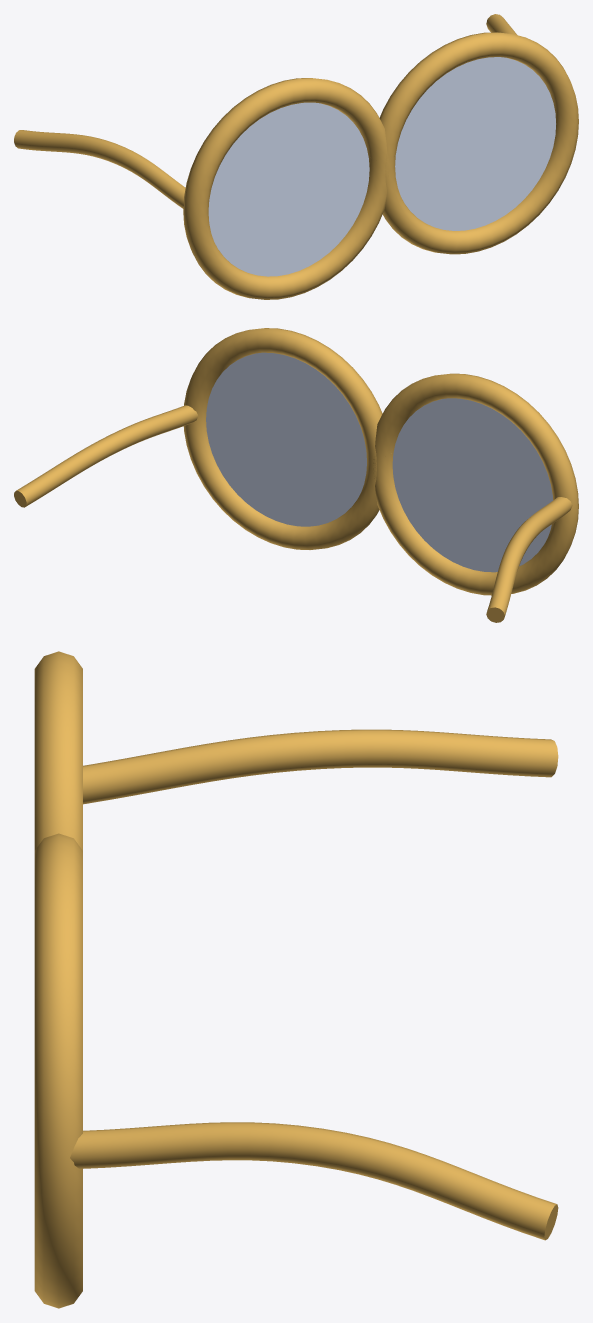
File: acc_glasses.glb
3 views of the same model, one above another, from view 1: azimuth 30°, elevation 25°; view 2: azimuth 150°, elevation 25°; view 3: azimuth 270°, elevation 25° (orthographic). The views are drawn at different scales.
Parts seen in each view (by area): view 1: AccG_Lens-1.001, AccG_Lens1.001, AccG_Rim-1.001, AccG_Rim1.001, AccG_Temple-1.001, AccG_Temple1.001; view 2: AccG_Lens1.001, AccG_Lens-1.001, AccG_Rim-1.001, AccG_Rim1.001, AccG_Temple1.001, AccG_Temple-1.001; view 3: AccG_Rim1.001, AccG_Temple1.001, AccG_Temple-1.001, AccG_Rim-1.001.
Boxes of the visible parts, left/top/right/bottom form: AccG_Lens-1.001: left=208, top=102, right=369, bottom=276; AccG_Lens1.001: left=395, top=57, right=555, bottom=230; AccG_Rim-1.001: left=183, top=78, right=389, bottom=299; AccG_Rim1.001: left=379, top=32, right=578, bottom=254; AccG_Temple-1.001: left=14, top=130, right=185, bottom=208; AccG_Temple1.001: left=486, top=14, right=516, bottom=34; AccG_Lens1.001: left=206, top=352, right=366, bottom=526; AccG_Lens-1.001: left=392, top=398, right=553, bottom=572; AccG_Rim-1.001: left=373, top=373, right=578, bottom=595; AccG_Rim1.001: left=183, top=328, right=382, bottom=549; AccG_Temple1.001: left=14, top=405, right=197, bottom=507; AccG_Temple-1.001: left=486, top=497, right=572, bottom=622; AccG_Rim1.001: left=34, top=833, right=82, bottom=1308; AccG_Temple1.001: left=70, top=1122, right=558, bottom=1240; AccG_Temple-1.001: left=83, top=729, right=558, bottom=804; AccG_Rim-1.001: left=34, top=651, right=82, bottom=850.
Bounding box in the file's own units: 0.4946 × 0.2074 × 0.2284.
